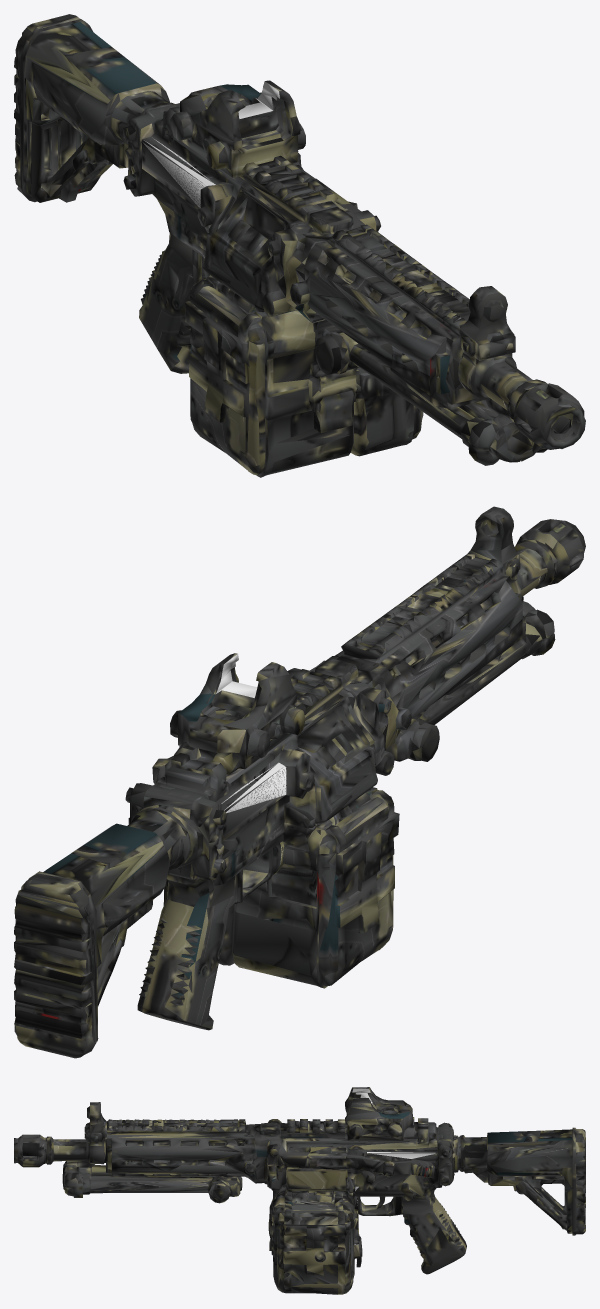
3 renders of one model, top to bottom at view 1: azimuth 30°, elevation 25°; view 2: azimuth 150°, elevation 25°; view 3: azimuth 270°, elevation 25°, orthographic. The views are drawn at different scales.
Visible parts, largest first — view 1: Body, Magazine; view 2: Body, Magazine; view 3: Body, Magazine, ChargingHandle.
Part boxes in pixels (x1=…): Body: x1=14, y1=14, x2=585, y2=465; Magazine: x1=185, y1=269, x2=423, y2=477; Body: x1=14, y1=506, x2=585, y2=1058; Magazine: x1=163, y1=787, x2=399, y2=988; Body: x1=14, y1=1087, x2=585, y2=1274; Magazine: x1=264, y1=1183, x2=359, y2=1294; ChargingHandle: x1=382, y1=1159, x2=416, y2=1176.
Size of the model in its own units: 0.3173 by 0.5036 by 1.46.
